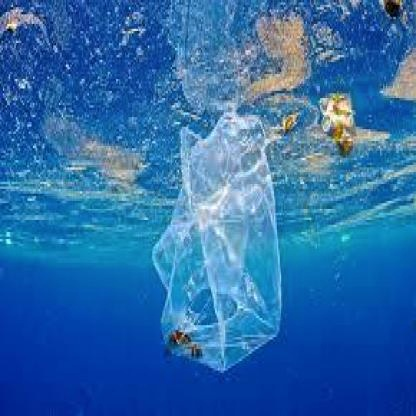pbag: (149, 110, 283, 378)
